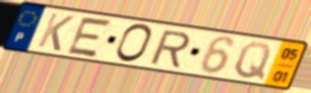6: (197, 34, 239, 77)
E: (63, 15, 116, 60)
K: (34, 11, 76, 54)
O: (113, 22, 154, 65)
Q: (232, 40, 274, 82)
R: (147, 29, 192, 69)
